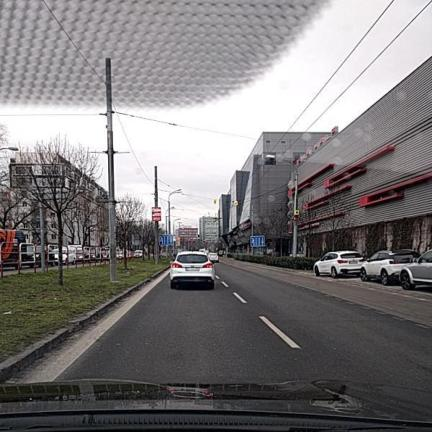Road: (56, 261, 431, 390)
